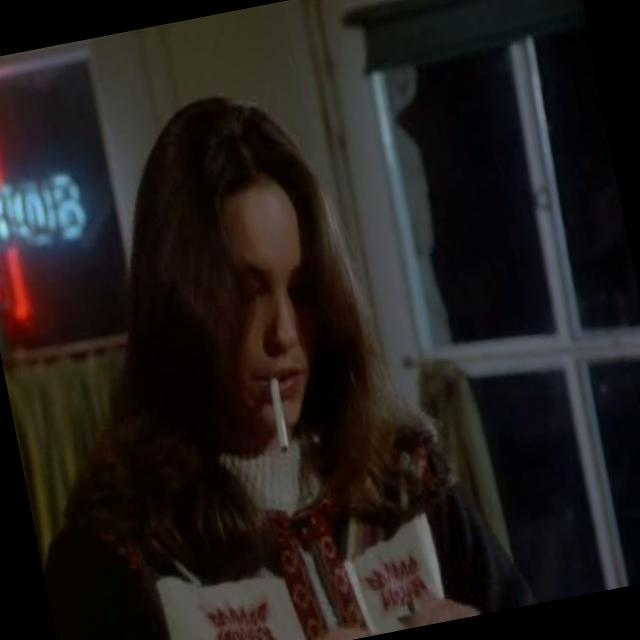smoke: (254, 358, 301, 470)
